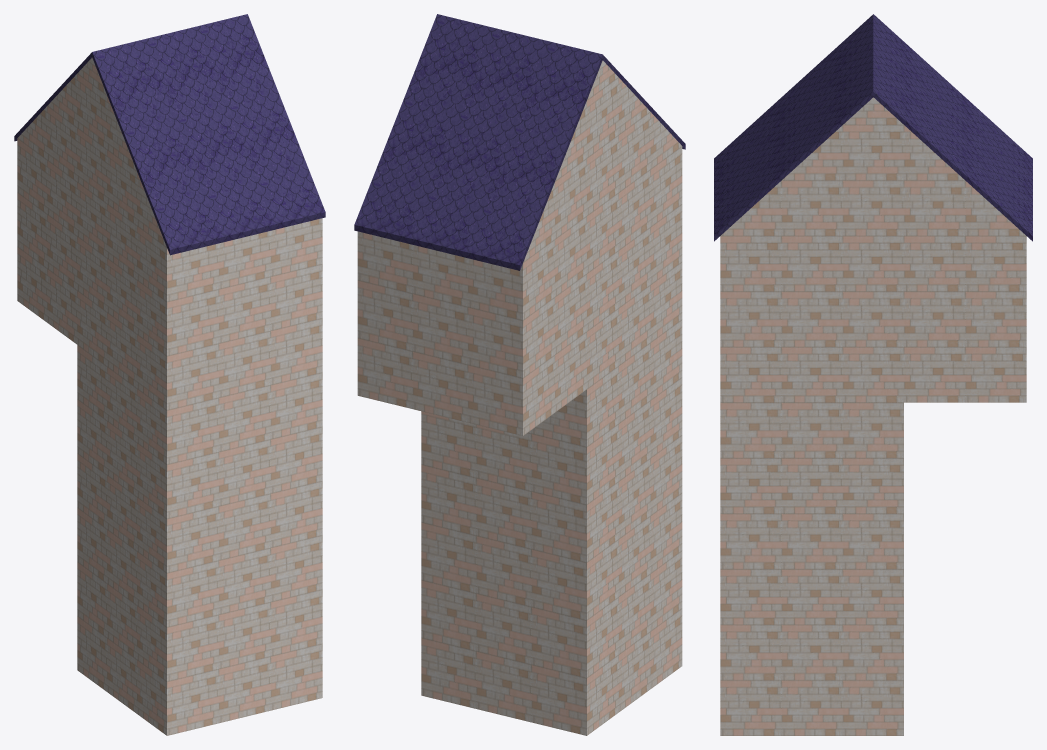
File: Outpost.fbx
The picture shows the model from 3 angles, left to right: view 1: azimuth 30°, elevation 25°; view 2: azimuth 150°, elevation 25°; view 3: azimuth 270°, elevation 25°; orthographic projection. The views are drawn at different scales.
Visible parts, largest first — view 1: Outpost; view 2: Outpost; view 3: Outpost.
Boxes of the visible parts, box(x1,y1,x2,y2) form: Outpost: box(14, 14, 325, 735); Outpost: box(354, 14, 685, 735); Outpost: box(714, 14, 1032, 735).
Size of the model in its own units: 1200 by 4640 by 2080.
